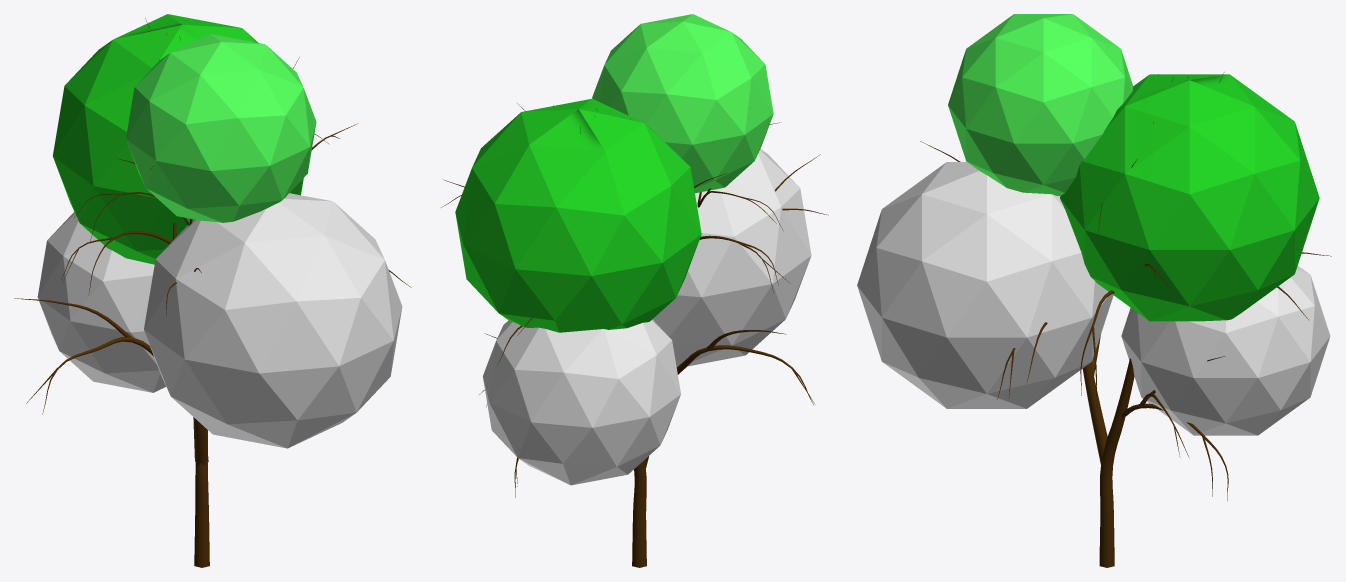
3 views of the same model, side by side, from view 1: azimuth 30°, elevation 25°; view 2: azimuth 150°, elevation 25°; view 3: azimuth 270°, elevation 25° (orthographic). The views are drawn at different scales.
Parts seen in each view (by area): view 1: Icosphere.001, Icosphere.003, Icosphere, Icosphere.002, tree; view 2: Icosphere, Icosphere.002, Icosphere.003, Icosphere.001, tree; view 3: Icosphere, Icosphere.001, Icosphere.003, Icosphere.002, tree.
Boxes of the visible parts, bbox=[...] form: Icosphere.001: bbox=[144, 193, 402, 448]; Icosphere.003: bbox=[126, 34, 316, 222]; Icosphere: bbox=[53, 14, 303, 264]; Icosphere.002: bbox=[37, 212, 165, 392]; tree: bbox=[14, 18, 411, 567]; Icosphere: bbox=[455, 98, 701, 332]; Icosphere.002: bbox=[483, 319, 680, 485]; Icosphere.003: bbox=[592, 14, 773, 193]; Icosphere.001: bbox=[652, 149, 811, 366]; tree: bbox=[441, 103, 828, 567]; Icosphere: bbox=[1060, 74, 1319, 321]; Icosphere.001: bbox=[857, 162, 1113, 408]; Icosphere.003: bbox=[948, 14, 1133, 195]; Icosphere.002: bbox=[1121, 265, 1330, 435]; tree: bbox=[920, 72, 1331, 567].
Bounding box in the file's own units: 471 × 682 × 544.
Materials: 3 (2 with a texture image).
